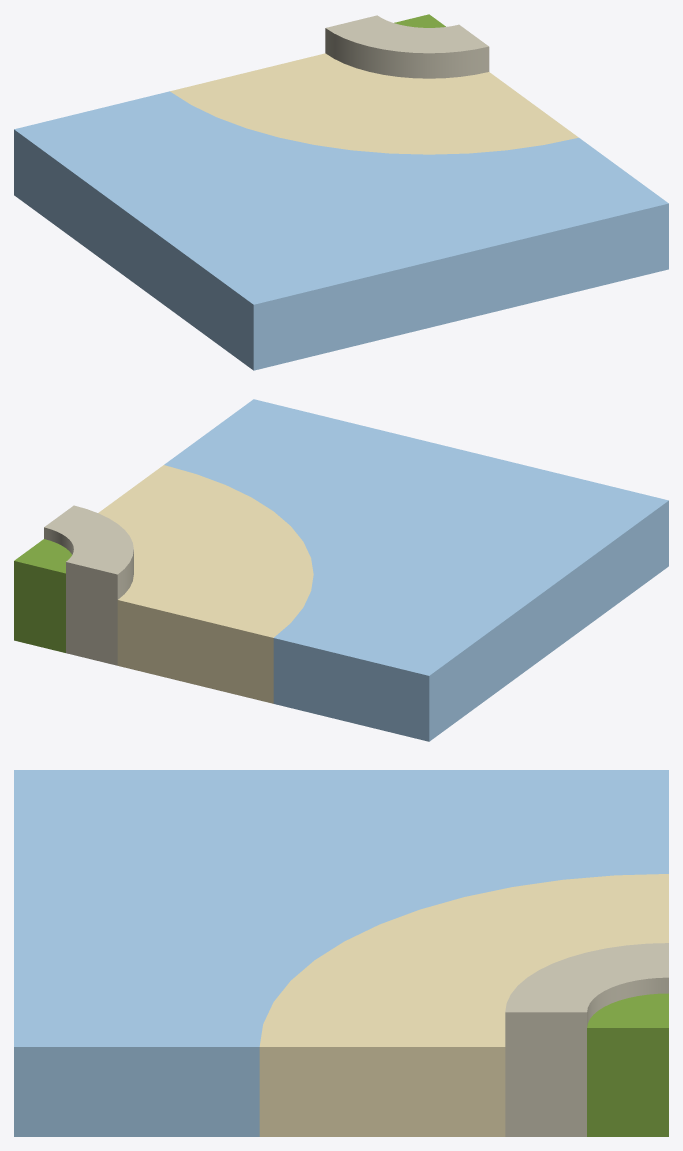
File: tile155.obj
The picture shows the model from 3 angles, top to bottom: view 1: azimuth 30°, elevation 25°; view 2: azimuth 150°, elevation 25°; view 3: azimuth 270°, elevation 25°; orthographic projection. The views are drawn at different scales.
Visible parts, largest first — view 1: tile155; view 2: tile155; view 3: tile155.
Part boxes in pixels (x1,y1,x2,y2): tile155: (14,14,668,370); tile155: (14,399,668,741); tile155: (14,770,668,1136).
Bounding box in the file's own units: 1 × 0.21 × 1.
